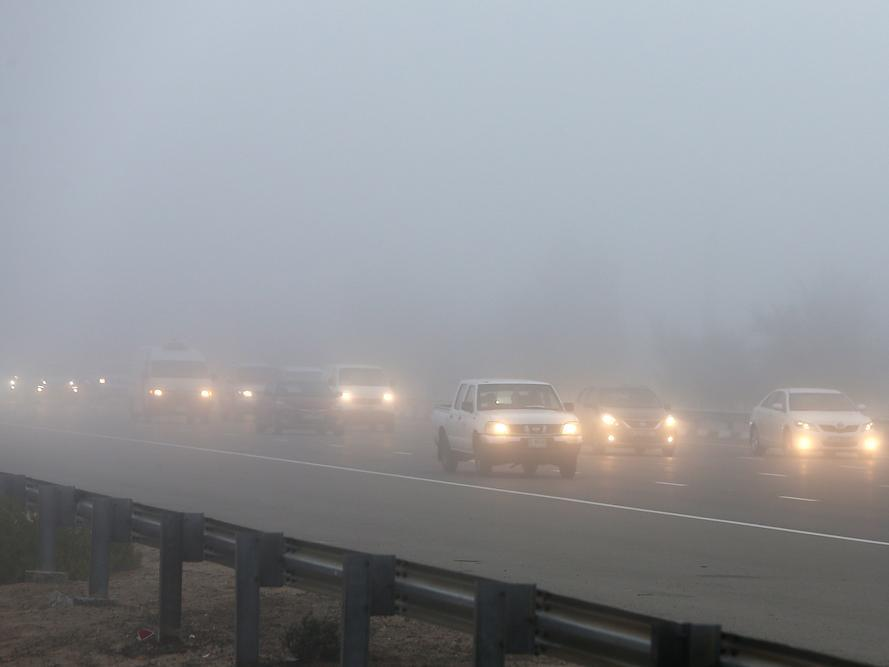car: (432, 378, 584, 482), (747, 387, 882, 461), (572, 386, 679, 458), (131, 345, 221, 421), (253, 369, 344, 438), (329, 365, 398, 434), (217, 363, 283, 422)
